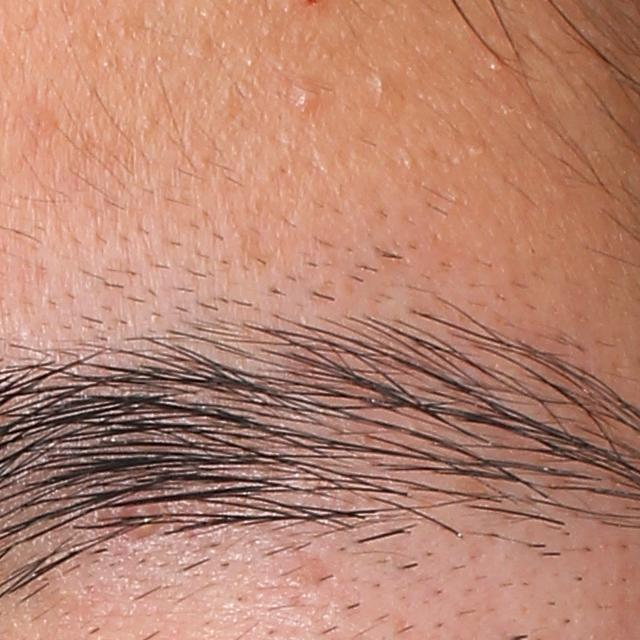comedo: (368, 68, 393, 104), (485, 53, 505, 76), (469, 136, 488, 157)
